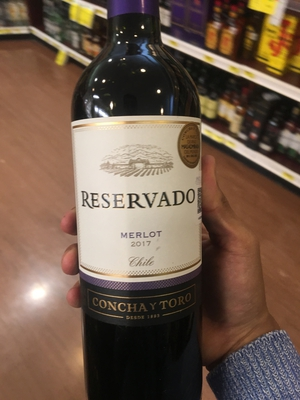reservado merlot: (57, 21, 218, 392)
